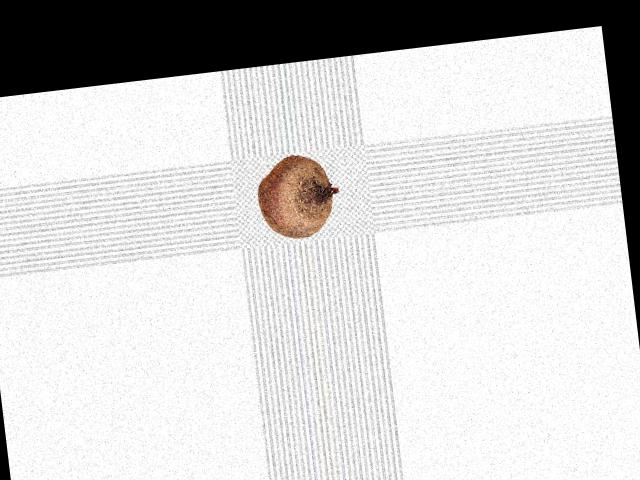beet: (254, 150, 344, 241)
